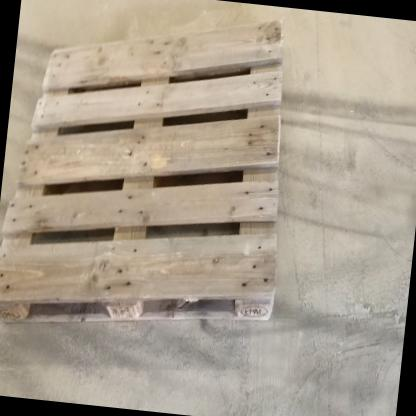BoxFace: (0, 13, 288, 329)
